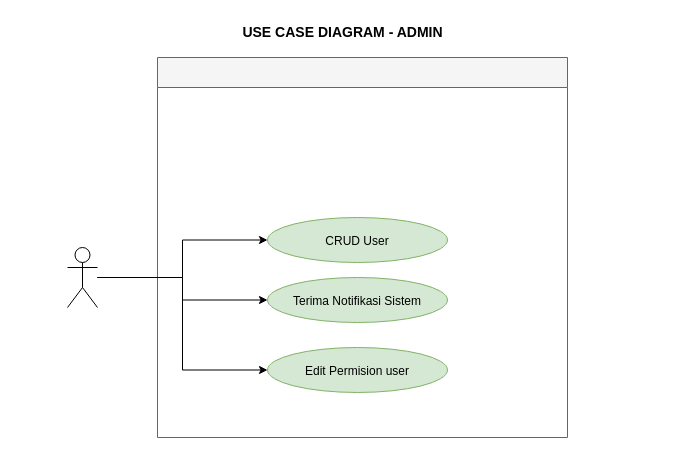
Image size: 684x455. Some labels were removed from this diagram. Each missing label, with the box of its shape:
Admin: (66, 246, 98, 308)
Sistem Tamp: (156, 56, 568, 438)
